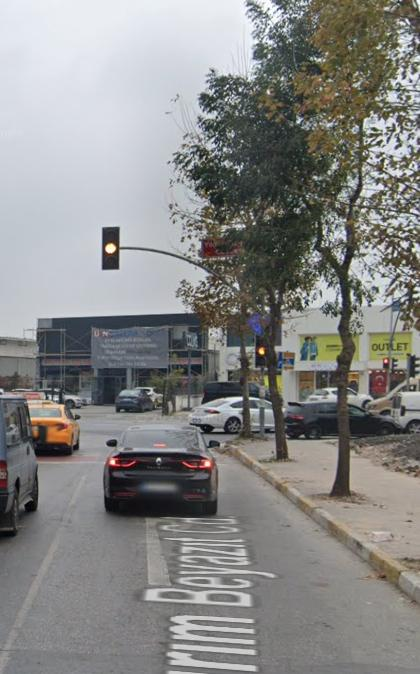yellowlight: (100, 222, 127, 276)
